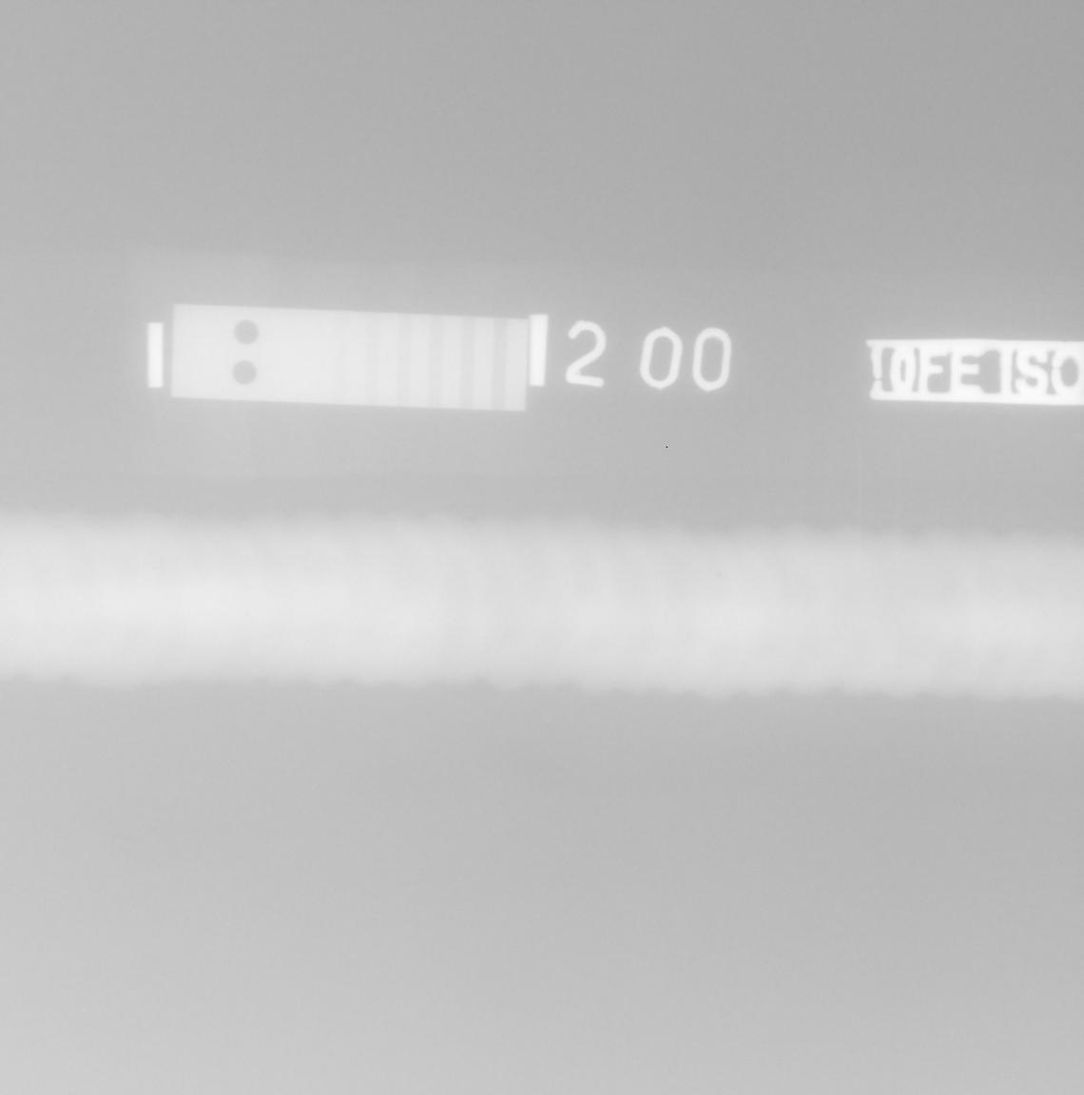Pore/Porosity: (717, 571, 722, 578)
Reference Standard 2: (170, 304, 529, 412)
